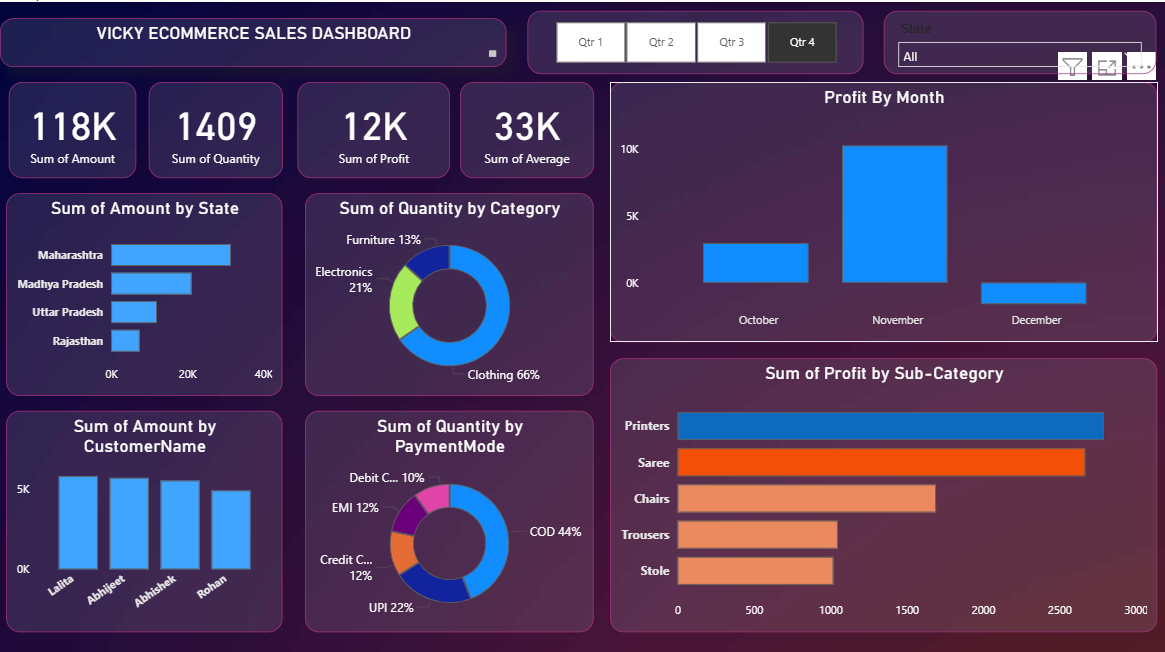

This screenshot's page, from the dashboard's own definition file:
{"tool":"powerbi","page":{"name":"Page 1","canvas":[1280,720],"ordinal":0},"visuals":[{"type":"textbox","title":"VICKY ECOMMERCE SALES DASHBOARD","box":[0,17.8,555.7,53.5],"z":0},{"type":"columnChart","title":"Profit By Month","fields":{"Category":["Orders.Order Date.Variation.Date Hierarchy.Month"],"Y":["Sum(Details.Profit)"]},"box":[669.6,87.8,601,285.4],"z":1000},{"type":"barChart","fields":{"Category":["Details.Sub-Category"],"Y":["Sum(Details.Profit)"]},"box":[669.6,391.1,601,300.5],"z":2000},{"type":"donutChart","fields":{"Category":["Details.PaymentMode"],"Y":["Sum(Details.Quantity)"]},"box":[334.8,448.7,317,242.9],"z":3000},{"type":"donutChart","fields":{"Category":["Details.Category"],"Y":["Sum(Details.Quantity)"]},"box":[334.8,209.9,317,222.3],"z":4000},{"type":"card","fields":{"Values":["Sum(Details.Amount)"]},"box":[9.6,87.8,140,105.7],"z":5000},{"type":"card","fields":{"Values":["Sum(Details.Quantity)"]},"box":[163.3,87.8,146.8,105.7],"z":6000},{"type":"card","fields":{"Values":["Sum(Details.Profit)"]},"box":[326.6,87.8,167.4,105.7],"z":7000},{"type":"card","fields":{"Values":["Sum(Details.Average)"]},"box":[505,87.8,146.8,105.7],"z":8000},{"type":"barChart","fields":{"Category":["Orders.State"],"Y":["Sum(Details.Amount)"]},"box":[6.9,209.9,303.3,222.3],"z":9000},{"type":"columnChart","fields":{"Category":["Orders.CustomerName"],"Y":["Sum(Details.Amount)"]},"box":[6.9,448.7,303.3,242.9],"z":10000},{"type":"slicer","fields":{"Values":["Orders.Order Date.Variation.Date Hierarchy.Quarter"]},"box":[579.1,9.6,369.1,70],"z":12000},{"type":"slicer","fields":{"Values":["Orders.State"]},"box":[970.2,9.6,299.1,70],"z":12001}]}

Visuals, with their boxes in screenshot pixels (x1, y1, x2, y2), scaled from the page's 1280x720 canvas onto the 1165x652 screenshot:
"VICKY ECOMMERCE SALES DASHBOARD" textbox: 0, 16, 506, 65
"Profit By Month" columnChart: 609, 80, 1156, 338
barChart - Details.Sub-Category x Sum(Details.Profit): 609, 354, 1156, 626
donutChart - Details.PaymentMode x Sum(Details.Quantity): 305, 406, 593, 626
donutChart - Details.Category x Sum(Details.Quantity): 305, 190, 593, 391
card - Sum(Details.Amount): 9, 80, 136, 175
card - Sum(Details.Quantity): 149, 80, 282, 175
card - Sum(Details.Profit): 297, 80, 450, 175
card - Sum(Details.Average): 460, 80, 593, 175
barChart - Orders.State x Sum(Details.Amount): 6, 190, 282, 391
columnChart - Orders.CustomerName x Sum(Details.Amount): 6, 406, 282, 626
slicer - Orders.Order Date.Variation.Date Hierarchy.Quarter: 527, 9, 863, 72
slicer - Orders.State: 883, 9, 1155, 72
